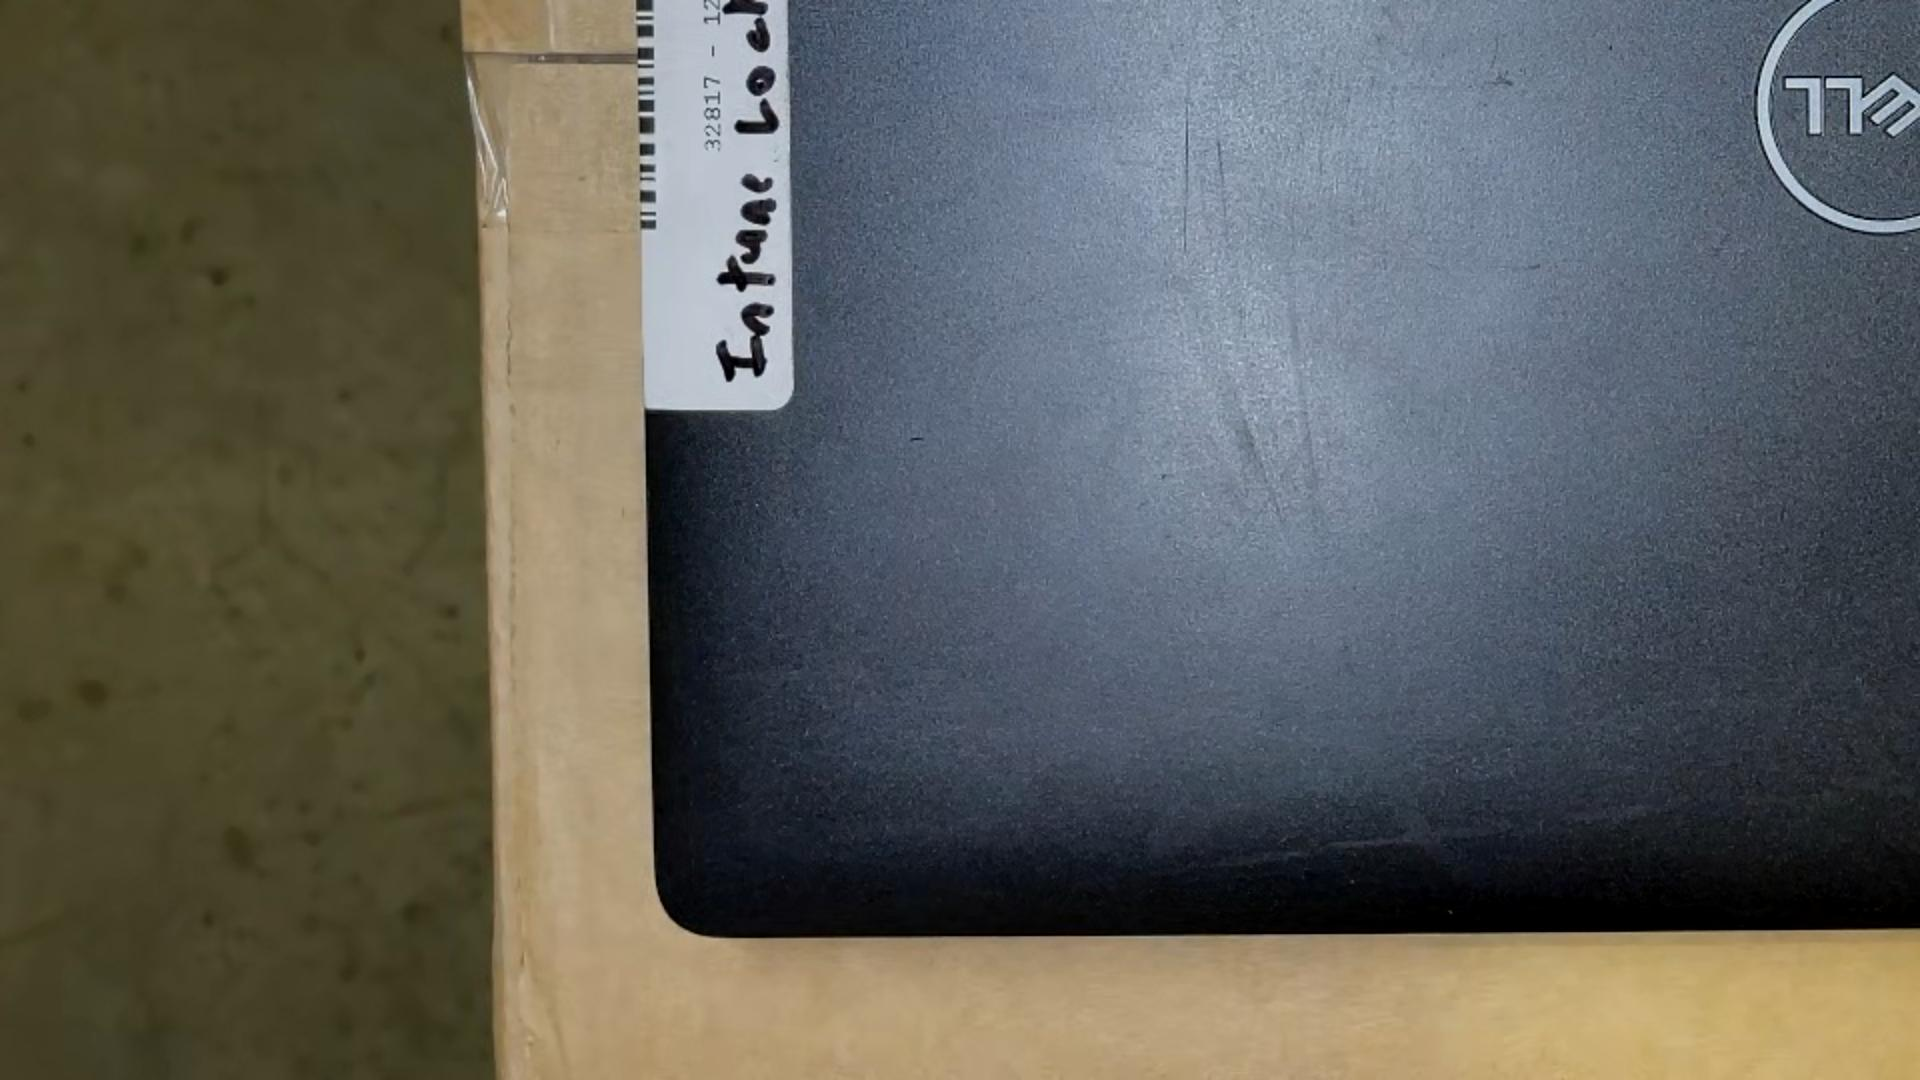scratches: (1201, 816, 1510, 873), (1238, 434, 1308, 545), (1240, 415, 1286, 522), (1824, 775, 1920, 806), (1182, 103, 1191, 257), (1216, 137, 1229, 223), (1487, 34, 1499, 70), (909, 436, 927, 443)
